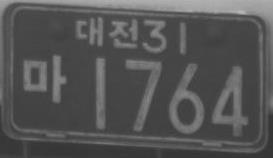1: (87, 56, 115, 131), (172, 20, 193, 56)
3: (140, 18, 168, 54)
4: (209, 64, 250, 137)
6: (166, 61, 206, 135)
7: (122, 57, 164, 133)
대전_O: (73, 15, 140, 50)
마: (20, 54, 68, 105)
